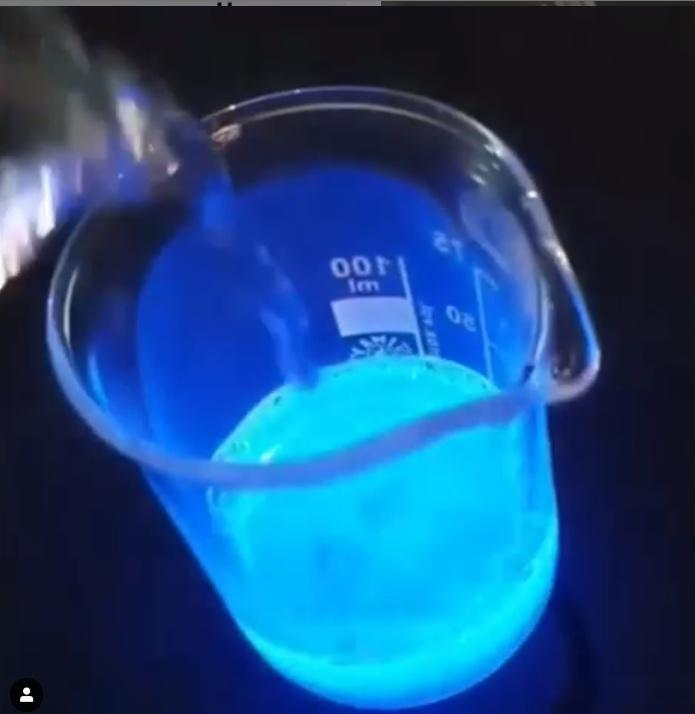Beaker: (52, 94, 597, 702)
